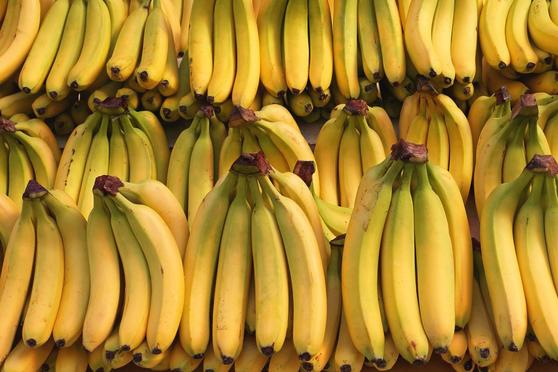banana: (271, 178, 335, 364), (472, 164, 535, 349), (341, 164, 398, 367), (129, 191, 195, 361), (381, 172, 436, 369), (414, 175, 462, 354), (183, 176, 229, 361), (245, 188, 292, 366), (18, 197, 66, 361), (81, 199, 129, 358), (212, 172, 250, 372)
